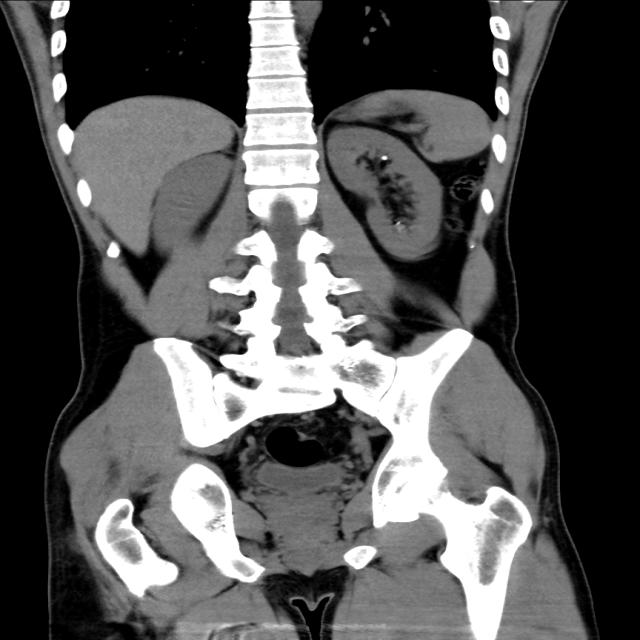kidneystone: (380, 155, 388, 161)
